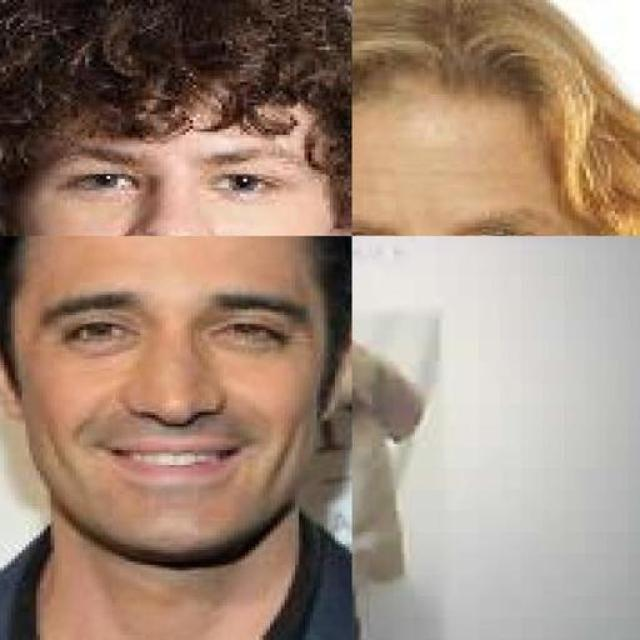bareface: (24, 237, 338, 562)
